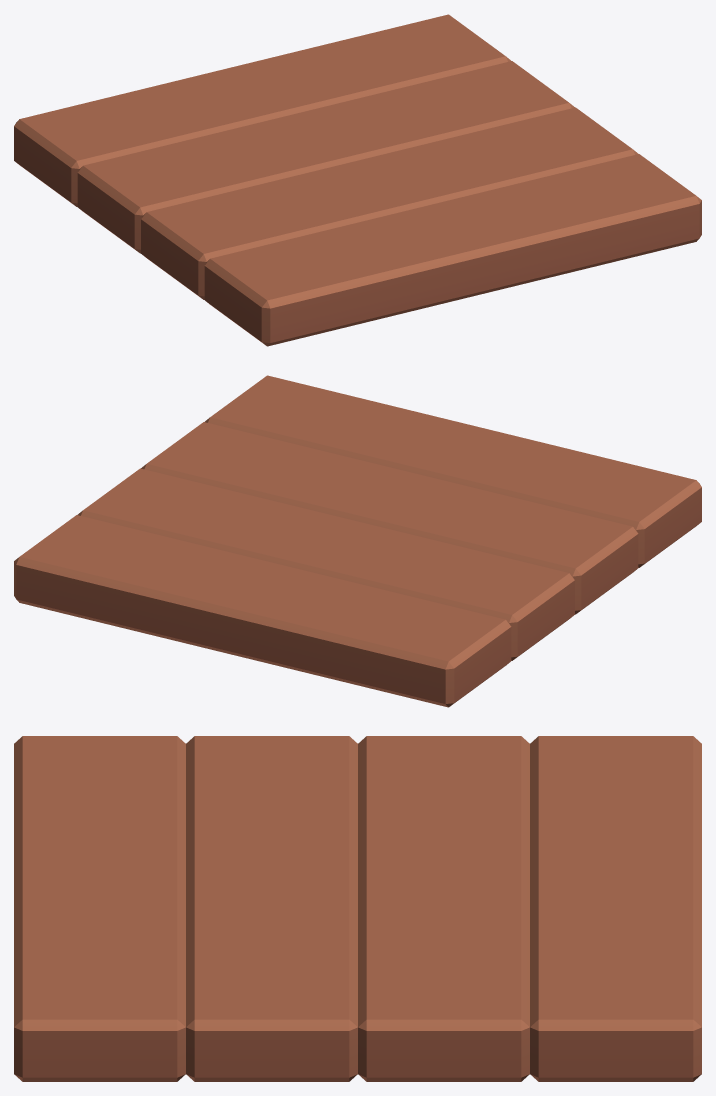
Rendered from crate_lid.obj.
The picture shows the model from 3 angles, top to bottom: view 1: azimuth 30°, elevation 25°; view 2: azimuth 150°, elevation 25°; view 3: azimuth 270°, elevation 25°; orthographic projection. The views are drawn at different scales.
Parts seen in each view (by area): view 1: crate_lid_Cube.002; view 2: crate_lid_Cube.002; view 3: crate_lid_Cube.002.
Part boxes in pixels (x1,y1,x2,y2): crate_lid_Cube.002: [14, 14, 701, 346]; crate_lid_Cube.002: [14, 375, 701, 707]; crate_lid_Cube.002: [14, 736, 701, 1081].
Bounding box in the file's own units: 2 × 0.2 × 2.
Materials: 1 (1 with a texture image).
